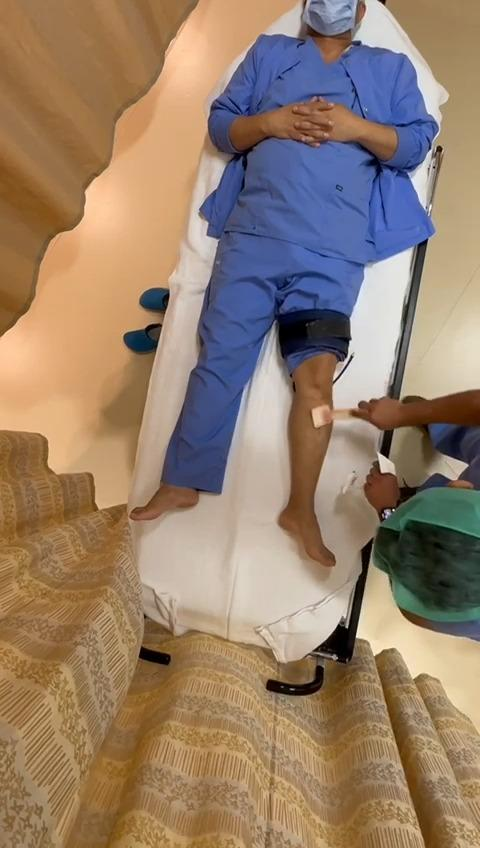bed: (102, 0, 445, 660)
patient: (131, 0, 437, 566)
prepstick: (312, 405, 352, 427)
tourniquet: (278, 310, 351, 359)
